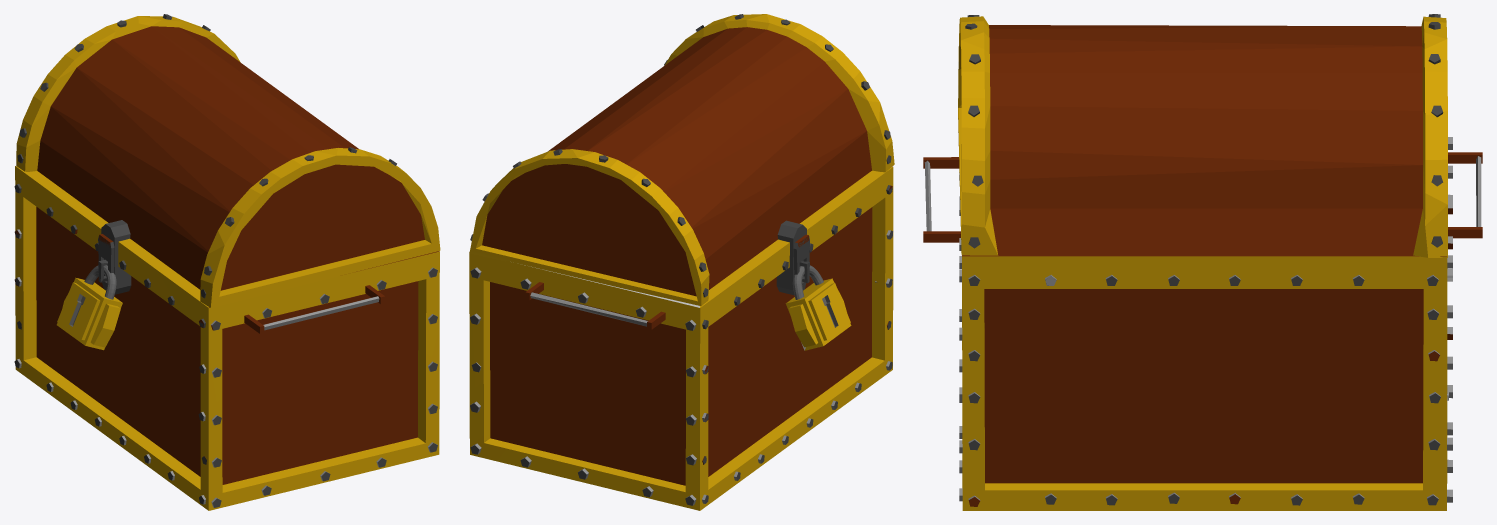
The model's file is YellowChestAndLock.fbx.
The picture shows the model from 3 angles, left to right: view 1: azimuth 30°, elevation 25°; view 2: azimuth 150°, elevation 25°; view 3: azimuth 270°, elevation 25°; orthographic projection. The views are drawn at different scales.
Visible parts, largest first — view 1: Cube.001, Cube; view 2: Cube.001, Cube; view 3: Cube.001.
Boxes of the visible parts, x1,y1,x2,y2 form: Cube.001: [14, 14, 440, 510]; Cube: [56, 265, 122, 350]; Cube.001: [469, 14, 894, 510]; Cube: [785, 265, 851, 350]; Cube.001: [923, 14, 1482, 510].
Size of the model in its own units: 239 by 270 by 334.
